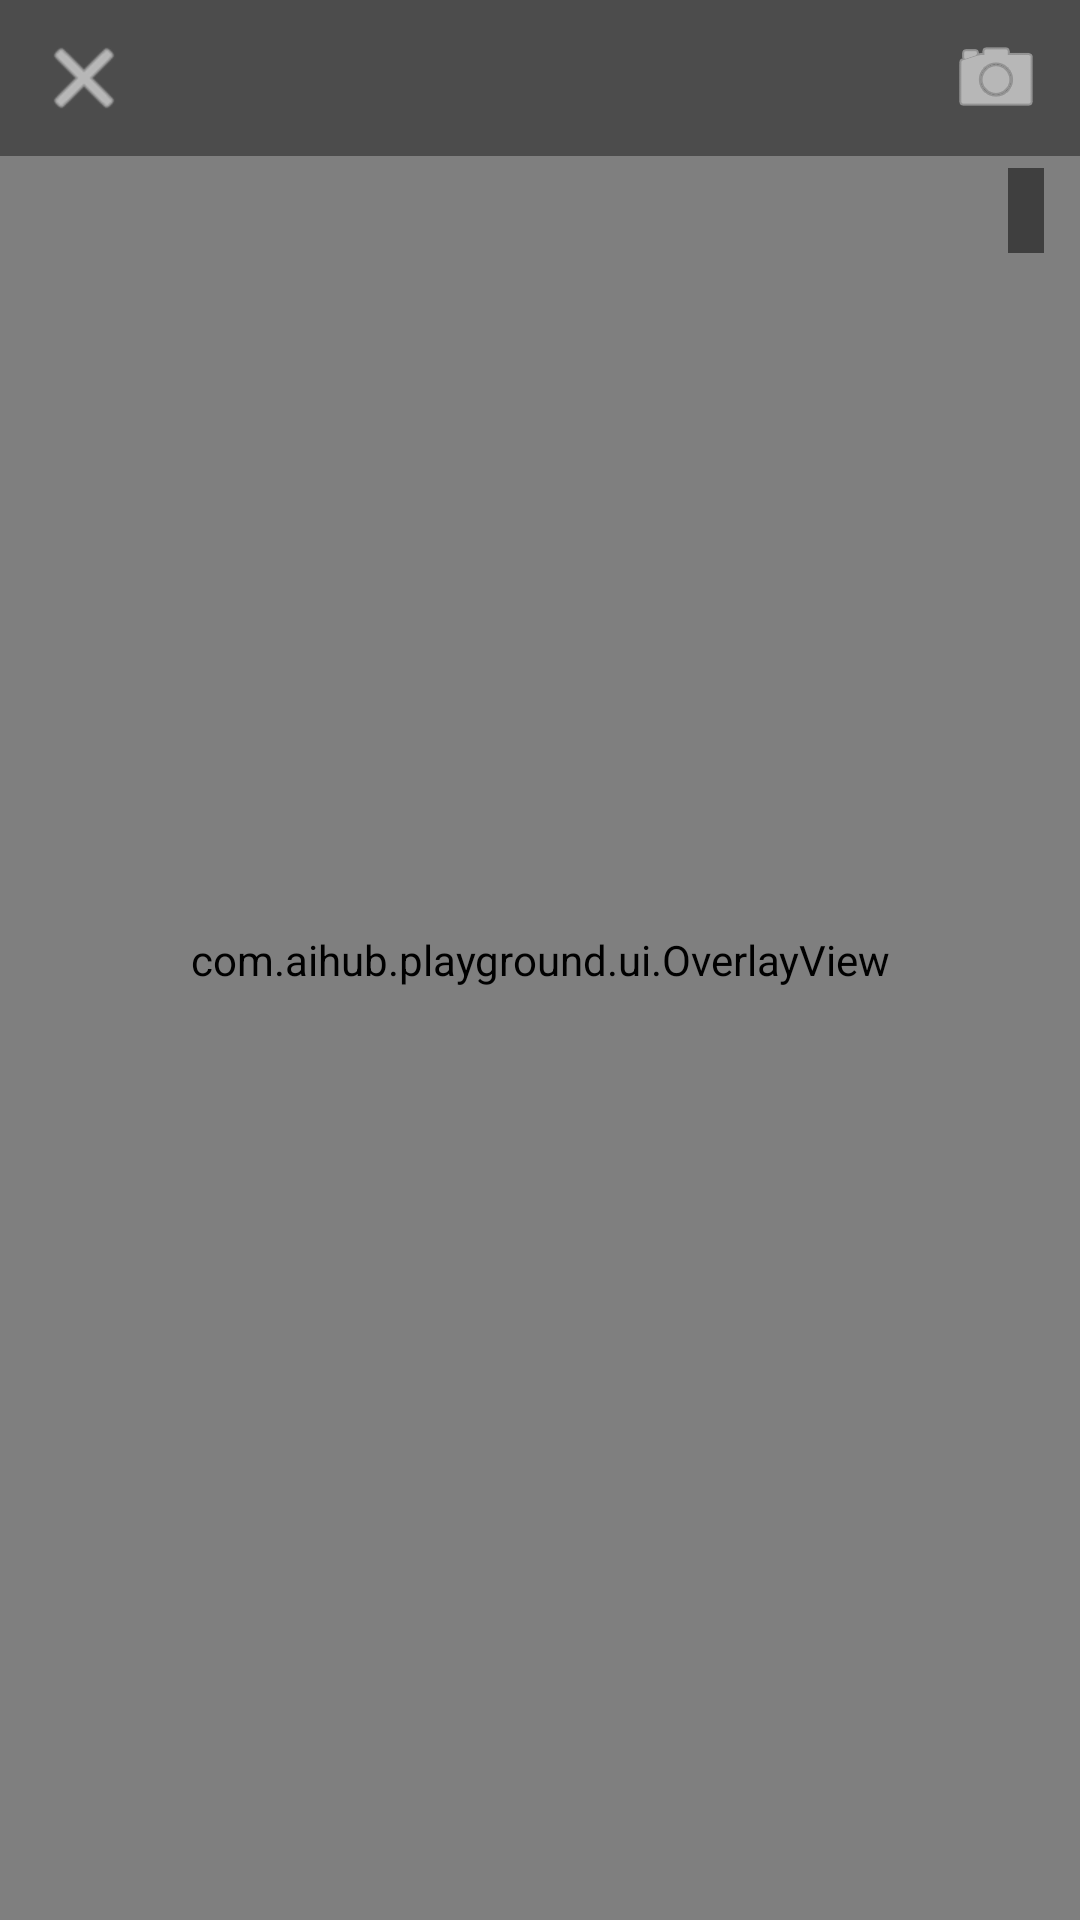

Screen size 1080w x 1920h. Icon name, then its box in pixels as (x1=x1, y1=y1, x2=x2, y2=y2):
カメラ切替: (x1=959, y1=47, x2=1033, y2=106)
